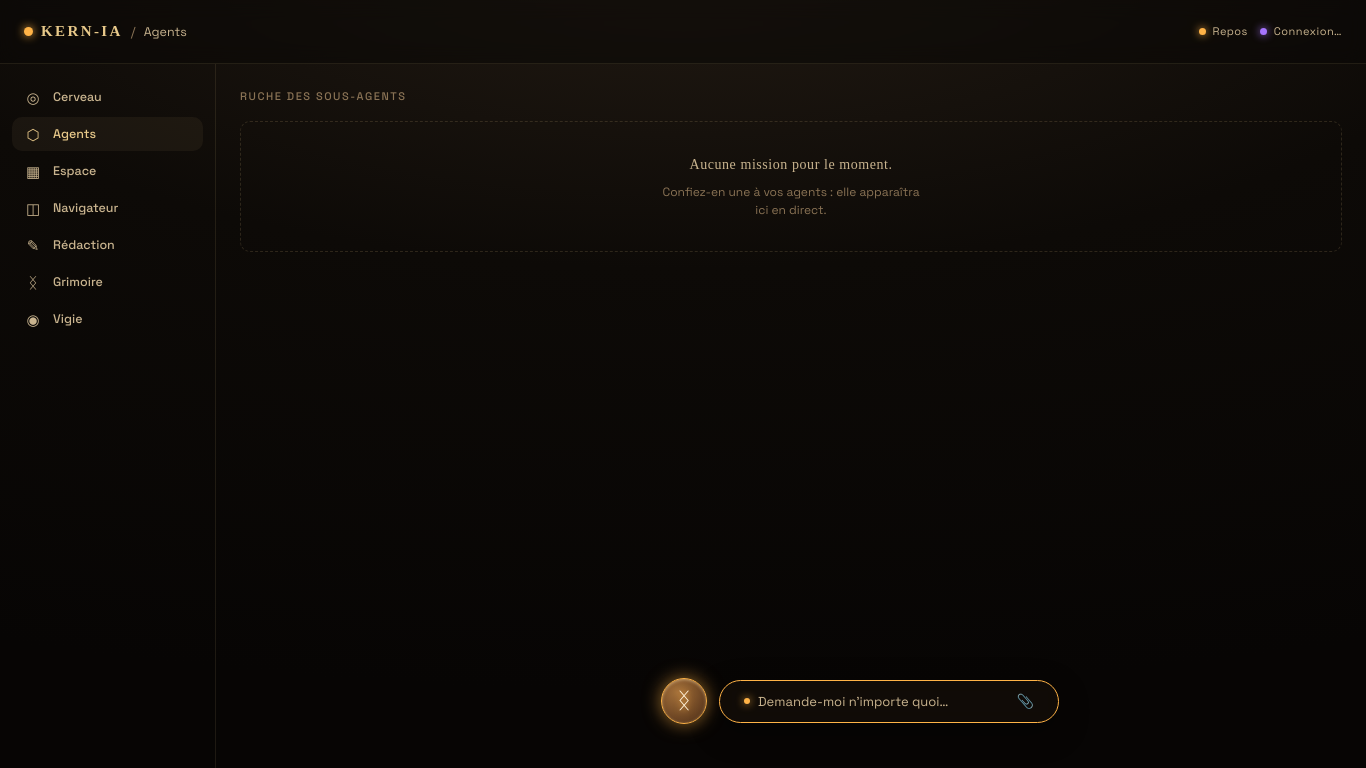
Test: draws the catalogue kern-orch published in the Grimoire
Click the tab "ᛝ Grimoire": (108, 282) [12,265,203,299]
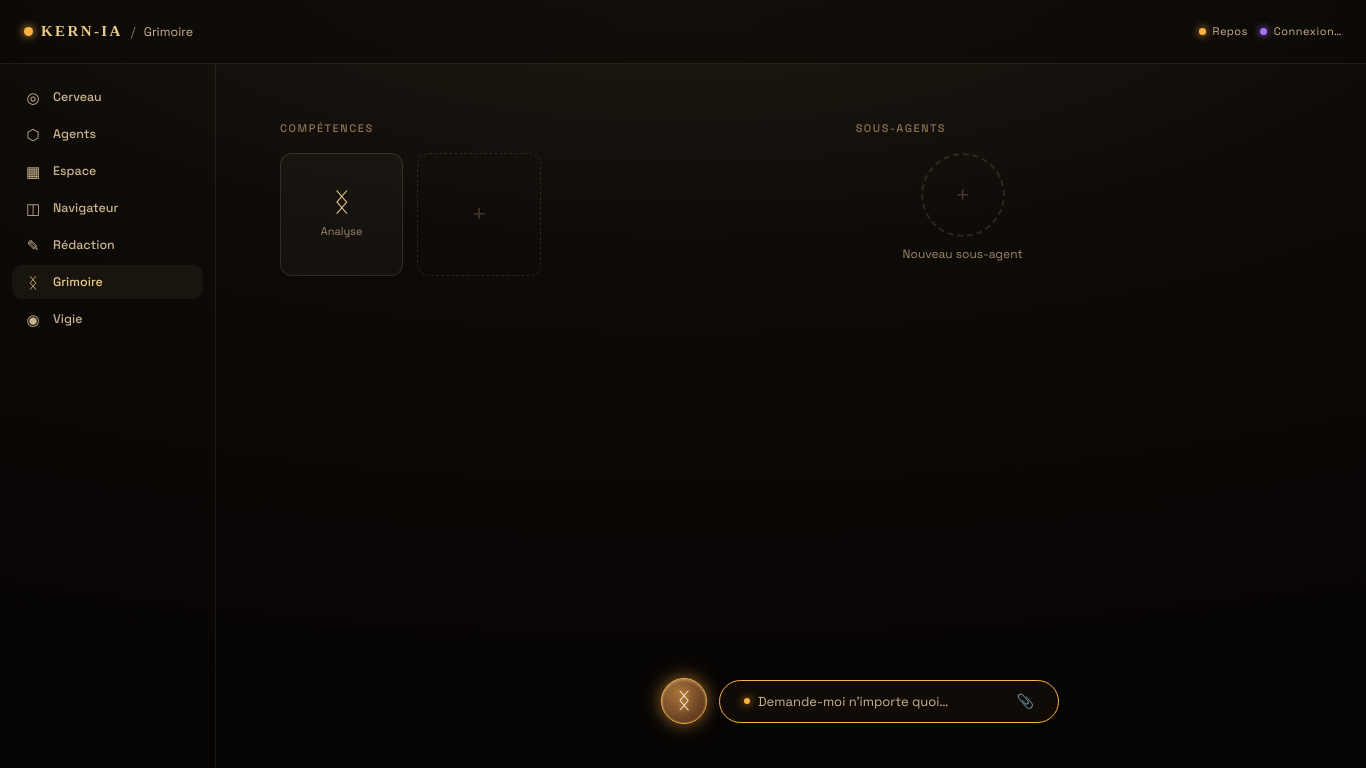
expect the heading "Compétences" is shown: met, box [280,121,374,135]
expect the text "Analyse" is shown: met, box [321,223,362,240]
